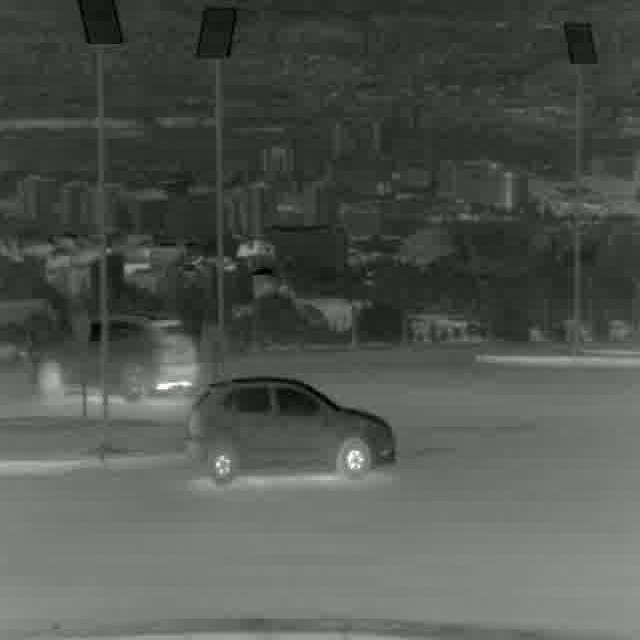Car: (186, 377, 398, 479), (30, 307, 195, 405)
